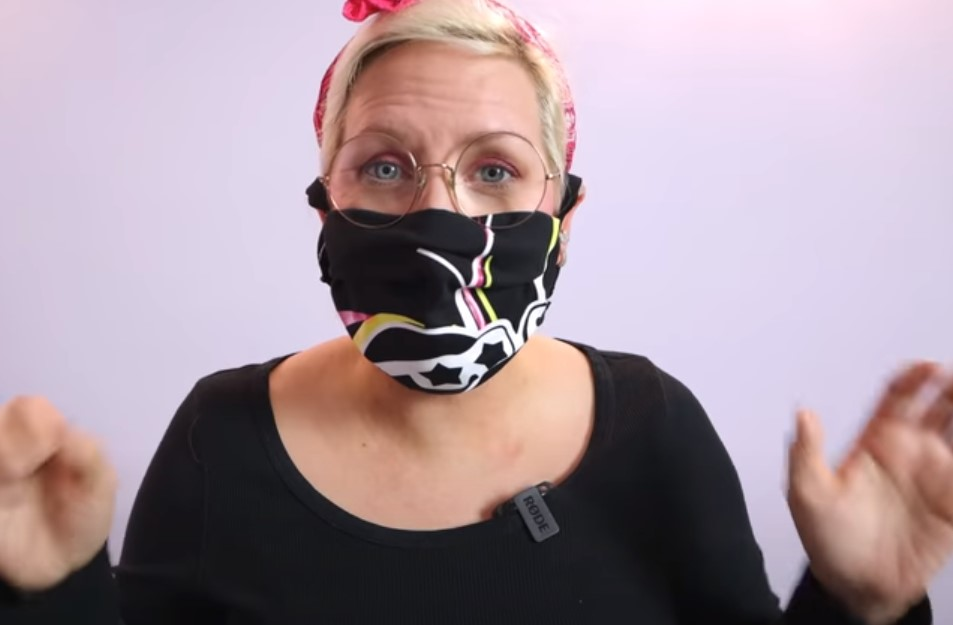face_with_mask: (299, 3, 585, 403)
